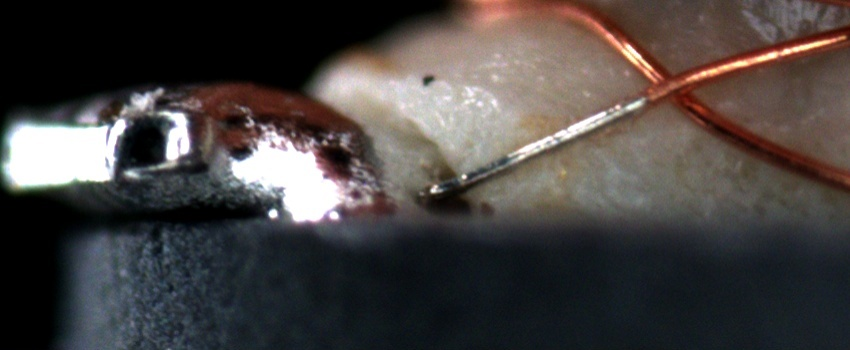CL: (629, 57, 715, 117)
TS: (416, 94, 645, 199)
